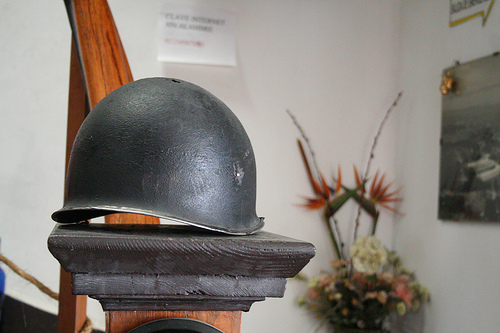helmet: (64, 81, 270, 228)
